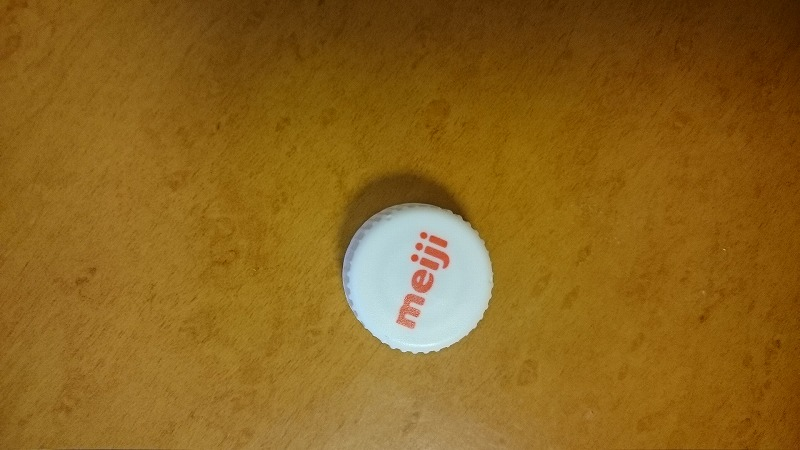B: (337, 197, 504, 359)
